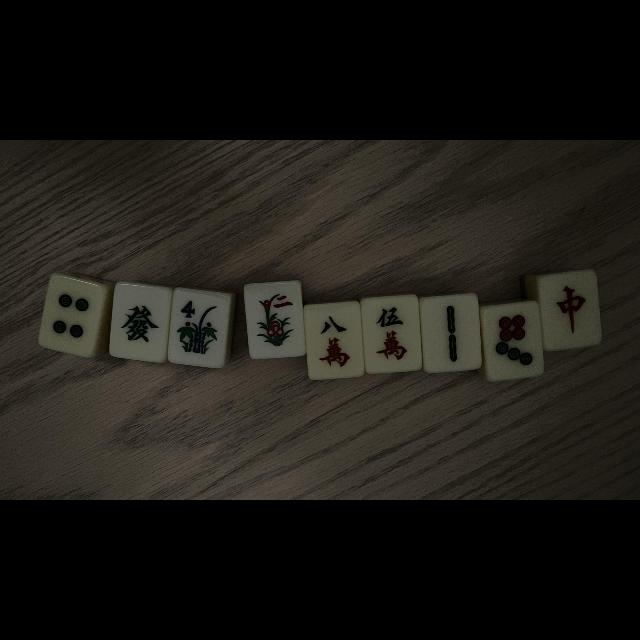b2: (424, 296, 480, 370)
c5: (364, 296, 420, 370)
c8: (306, 302, 362, 378)
d4: (40, 276, 101, 354)
d7: (484, 302, 542, 378)
dg: (112, 284, 166, 360)
dr: (542, 274, 600, 346)
f4-s: (170, 289, 227, 366)
s2-s: (245, 282, 302, 358)
